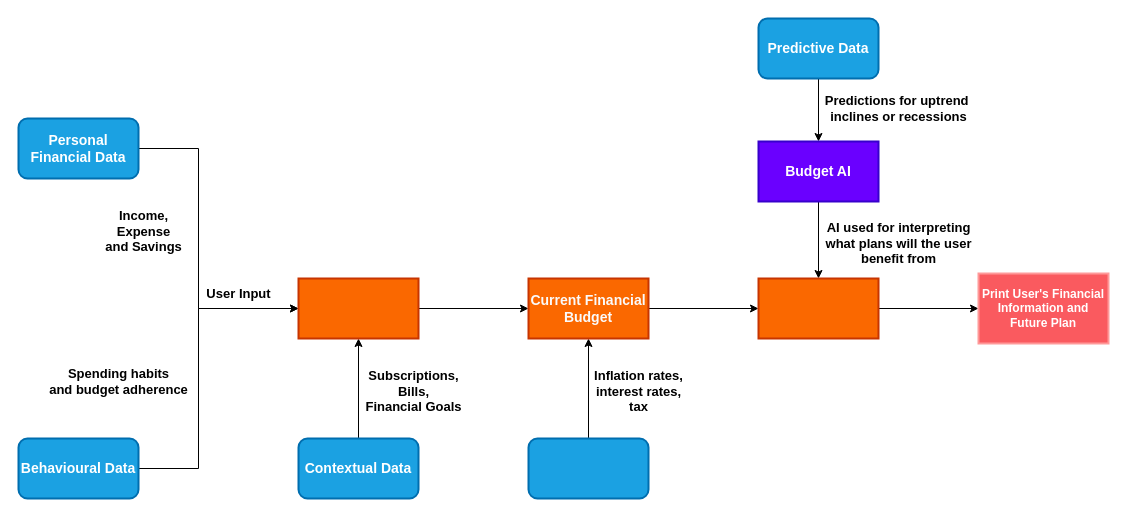
Image size: 1126x516. Some labels were removed from this diagram. The centre of each missing label's shape, as x and y in pixels:
External Data Sources: the point at 588,468
Future Financial Growth: the point at 818,308
User Data: the point at 358,308
